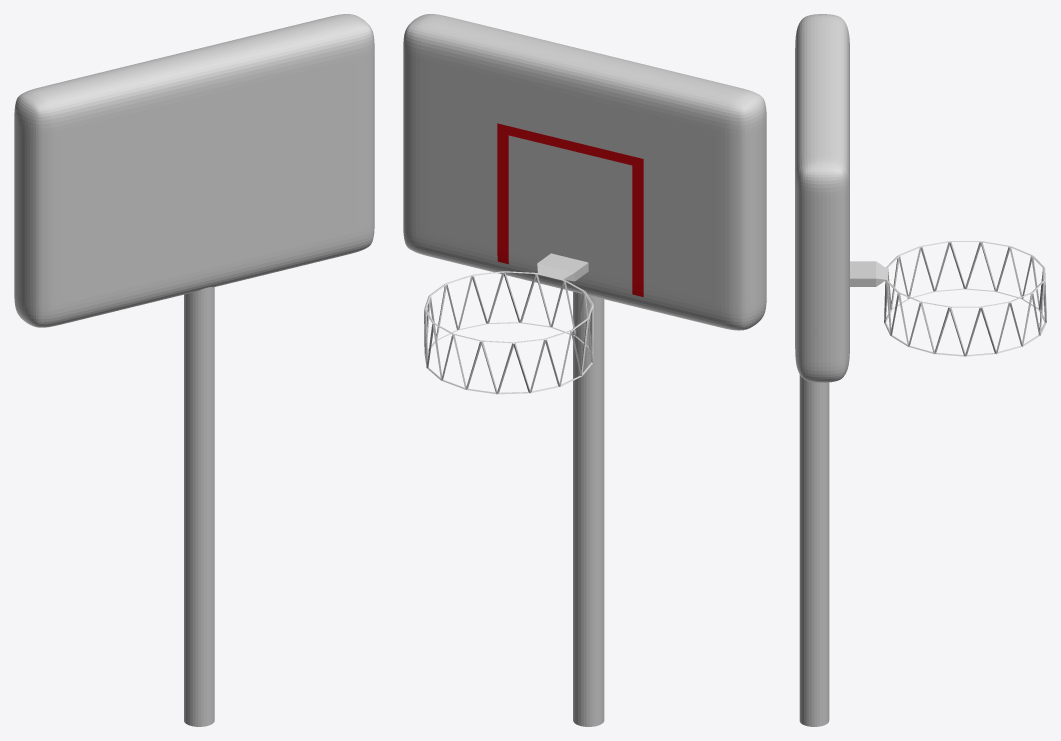
Rendered from Panier de basket.fbx.
The picture shows the model from 3 angles, left to right: view 1: azimuth 30°, elevation 25°; view 2: azimuth 150°, elevation 25°; view 3: azimuth 270°, elevation 25°; orthographic projection. The views are drawn at different scales.
Parts seen in each view (by area): view 1: Cube; view 2: Cube; view 3: Cube.
Boxes of the visible parts, bbox=[...] form: Cube: bbox=[14, 14, 374, 726]; Cube: bbox=[403, 14, 766, 726]; Cube: bbox=[795, 14, 1046, 726].
Size of the model in its own units: 247 by 447 by 161.
